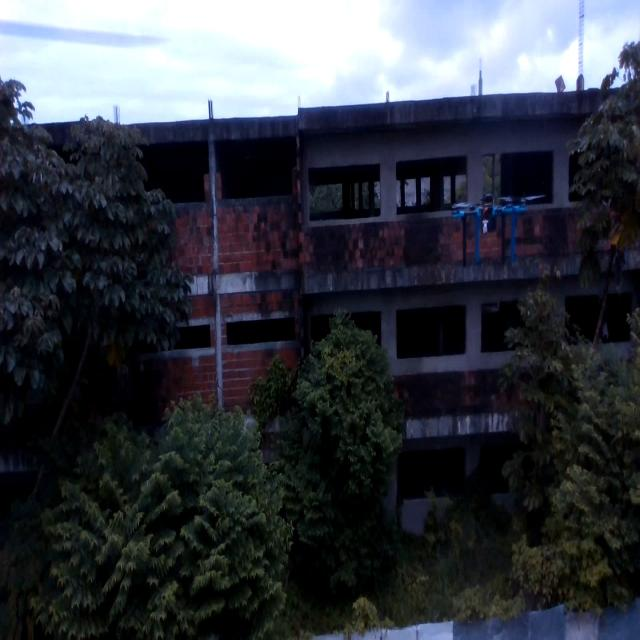-uav-: (449, 168, 542, 282)
